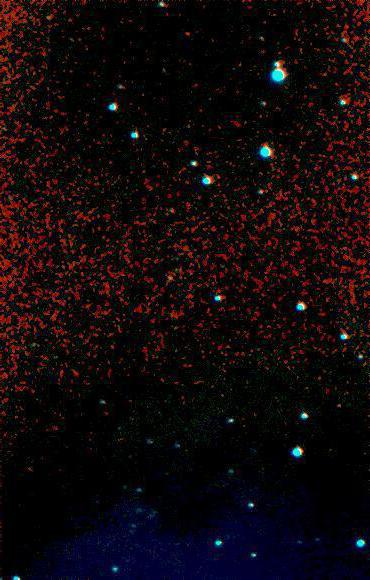star: (171, 22, 201, 52)
